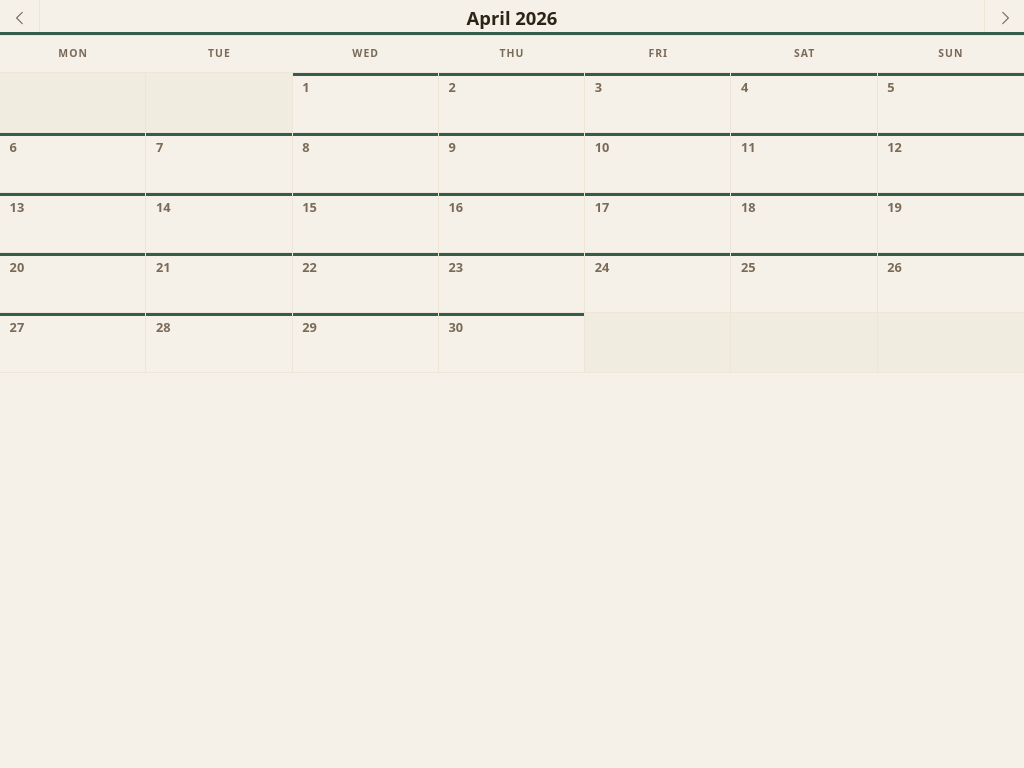
Test: profile-aware meal plan views › shows only enabled meal type chips in month popover when no meals exist
Click the button "22".
click(366, 283)  # box [293, 253, 439, 313]
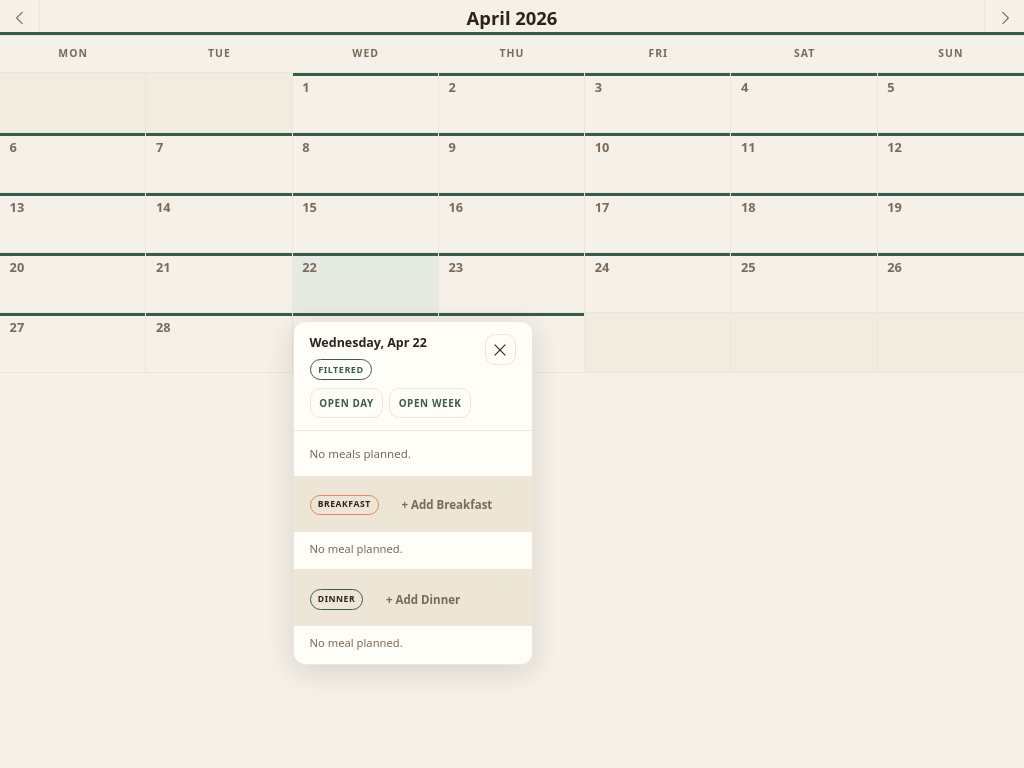
Result: the text "Breakfast" is shown at [310, 494, 379, 515]
Result: the text "Dinner" is shown at [310, 589, 363, 610]
